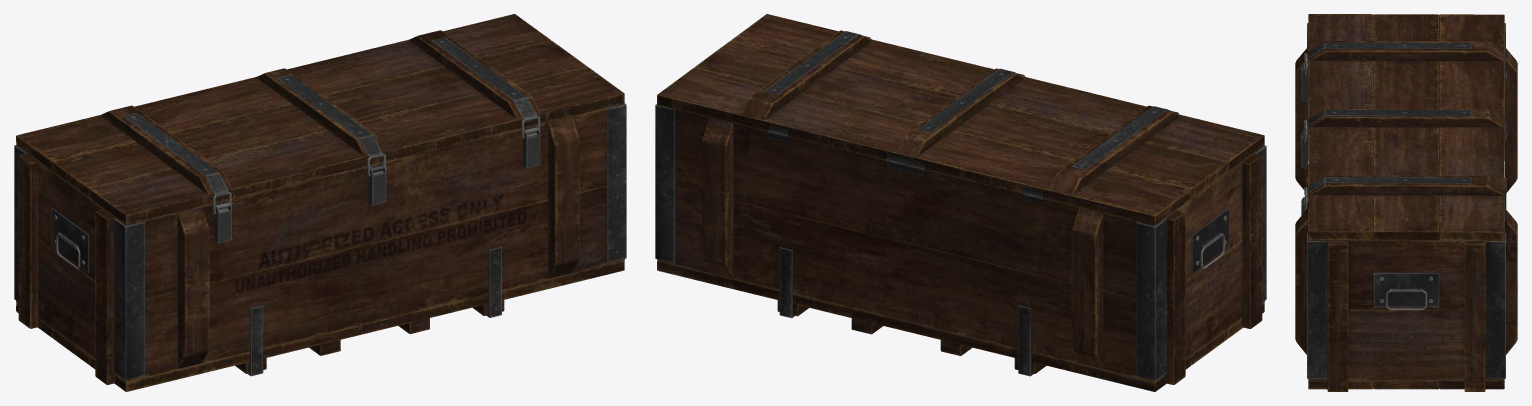
The model's file is ph_military_crate.gltf.
The picture shows the model from 3 angles, left to right: view 1: azimuth 30°, elevation 25°; view 2: azimuth 150°, elevation 25°; view 3: azimuth 270°, elevation 25°; orthographic projection. The views are drawn at different scales.
Parts seen in each view (by area): view 1: Body; view 2: Body; view 3: Body.
Part boxes in pixels (x1,y1,x2,y2): Body: (14, 14, 626, 391); Body: (655, 14, 1266, 391); Body: (1295, 14, 1517, 391).
Bounding box in the file's own units: 1.24 × 0.4647 × 0.5198.
Materials: 1 (1 with a texture image).
